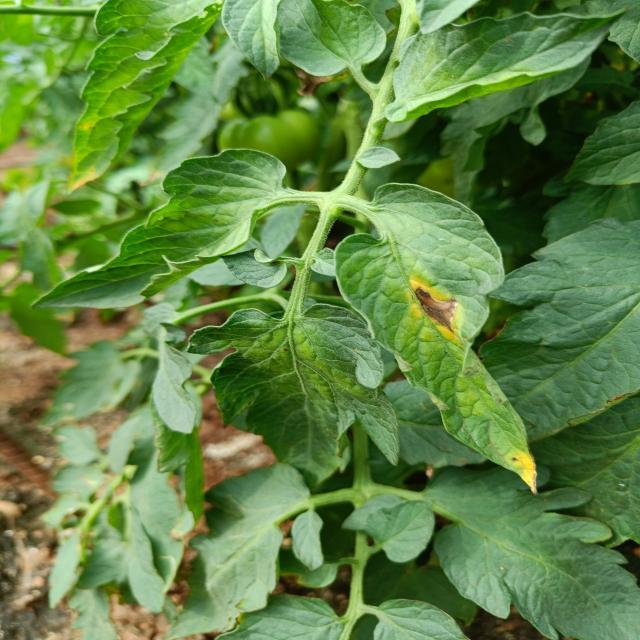Tomato mosaic virus leaf: (328, 182, 540, 499)
